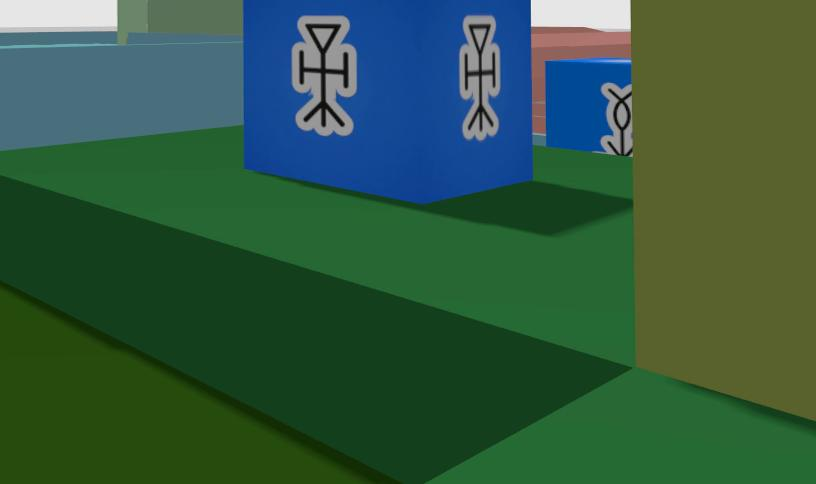KFS_REAL: (243, 0, 533, 202), (546, 58, 633, 154), (292, 17, 356, 135), (460, 17, 500, 140), (600, 83, 632, 155)
